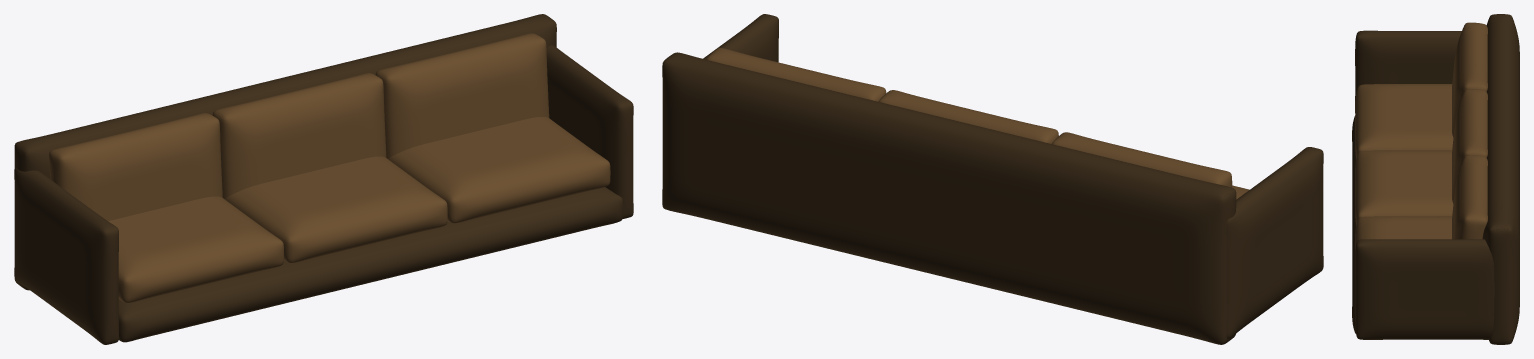
The model's file is Sofa.fbx.
3 views of the same model, side by side, from view 1: azimuth 30°, elevation 25°; view 2: azimuth 150°, elevation 25°; view 3: azimuth 270°, elevation 25° (orthographic). The views are drawn at different scales.
Parts seen in each view (by area): view 1: Cube.028, Cube.026, Cube.024, Cube.025, Cube.030, Cube.031, Cube.029, Cube.023, Cube.027; view 2: Cube.027, Cube.028, Cube.029, Cube.030, Cube.031; view 3: Cube.028, Cube.027, Cube.023, Cube.024, Cube.031, Cube.029, Cube.030, Cube.025, Cube.026.
Part boxes in pixels (bbox=[...]): Cube.028: bbox=[14, 45, 633, 344]; Cube.026: bbox=[118, 187, 622, 342]; Cube.024: bbox=[225, 156, 447, 263]; Cube.025: bbox=[388, 117, 610, 223]; Cube.030: bbox=[212, 73, 386, 199]; Cube.031: bbox=[375, 33, 549, 158]; Cube.029: bbox=[49, 113, 222, 220]; Cube.023: bbox=[108, 196, 283, 303]; Cube.027: bbox=[14, 14, 556, 290]; Cube.027: bbox=[662, 52, 1236, 344]; Cube.028: bbox=[703, 14, 1323, 338]; Cube.029: bbox=[1052, 132, 1232, 187]; Cube.030: bbox=[878, 90, 1058, 143]; Cube.031: bbox=[706, 48, 886, 101]; Cube.028: bbox=[1355, 30, 1494, 339]; Cube.027: bbox=[1482, 14, 1519, 344]; Cube.023: bbox=[1355, 84, 1453, 159]; Cube.024: bbox=[1355, 150, 1453, 225]; Cube.031: bbox=[1452, 155, 1487, 239]; Cube.029: bbox=[1452, 22, 1487, 137]; Cube.030: bbox=[1452, 89, 1487, 203]; Cube.025: bbox=[1355, 216, 1452, 249]; Cube.026: bbox=[1352, 115, 1356, 333].
Size of the model in its own units: 209 by 54.65 by 67.54.
2 materials, 2 textured.
